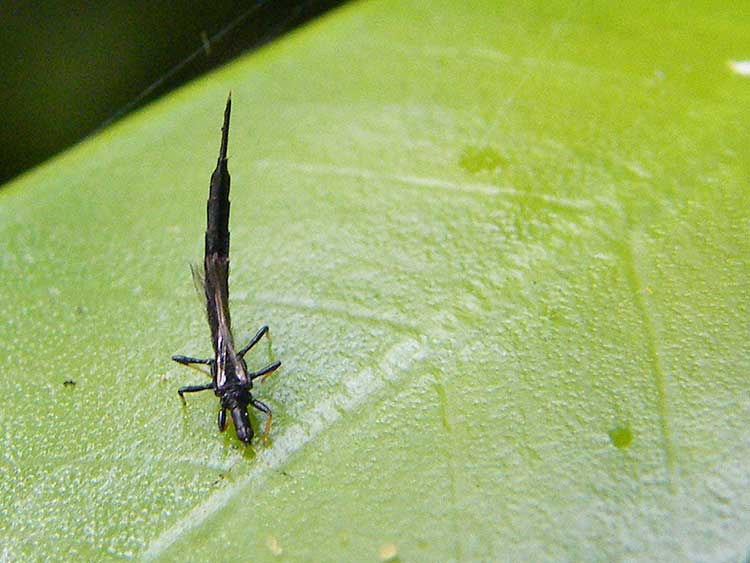Thrips: (164, 85, 308, 446)
